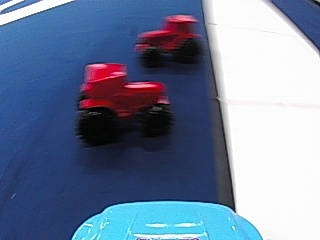tractor: (75, 57, 168, 145), (132, 14, 200, 68)
